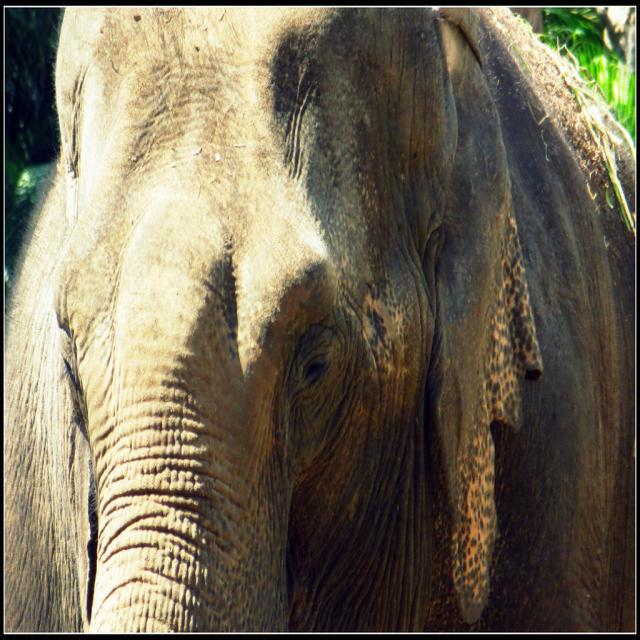Elephant: (0, 11, 629, 627)
